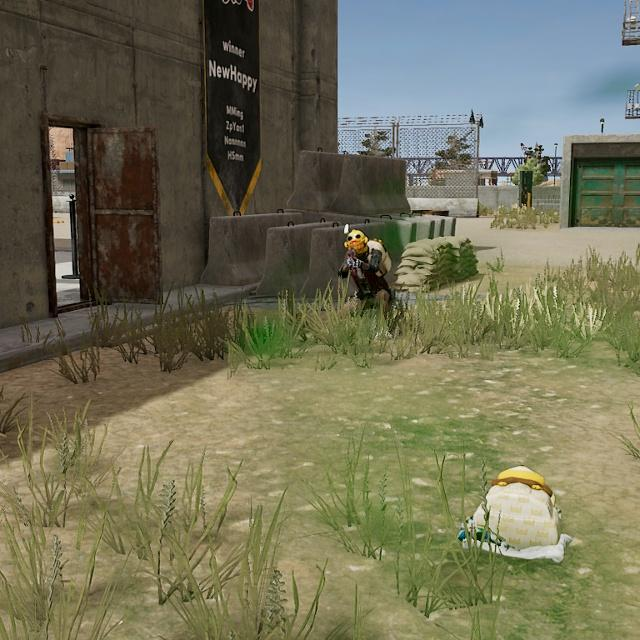head: (345, 231, 369, 255)
people: (338, 230, 396, 333)
